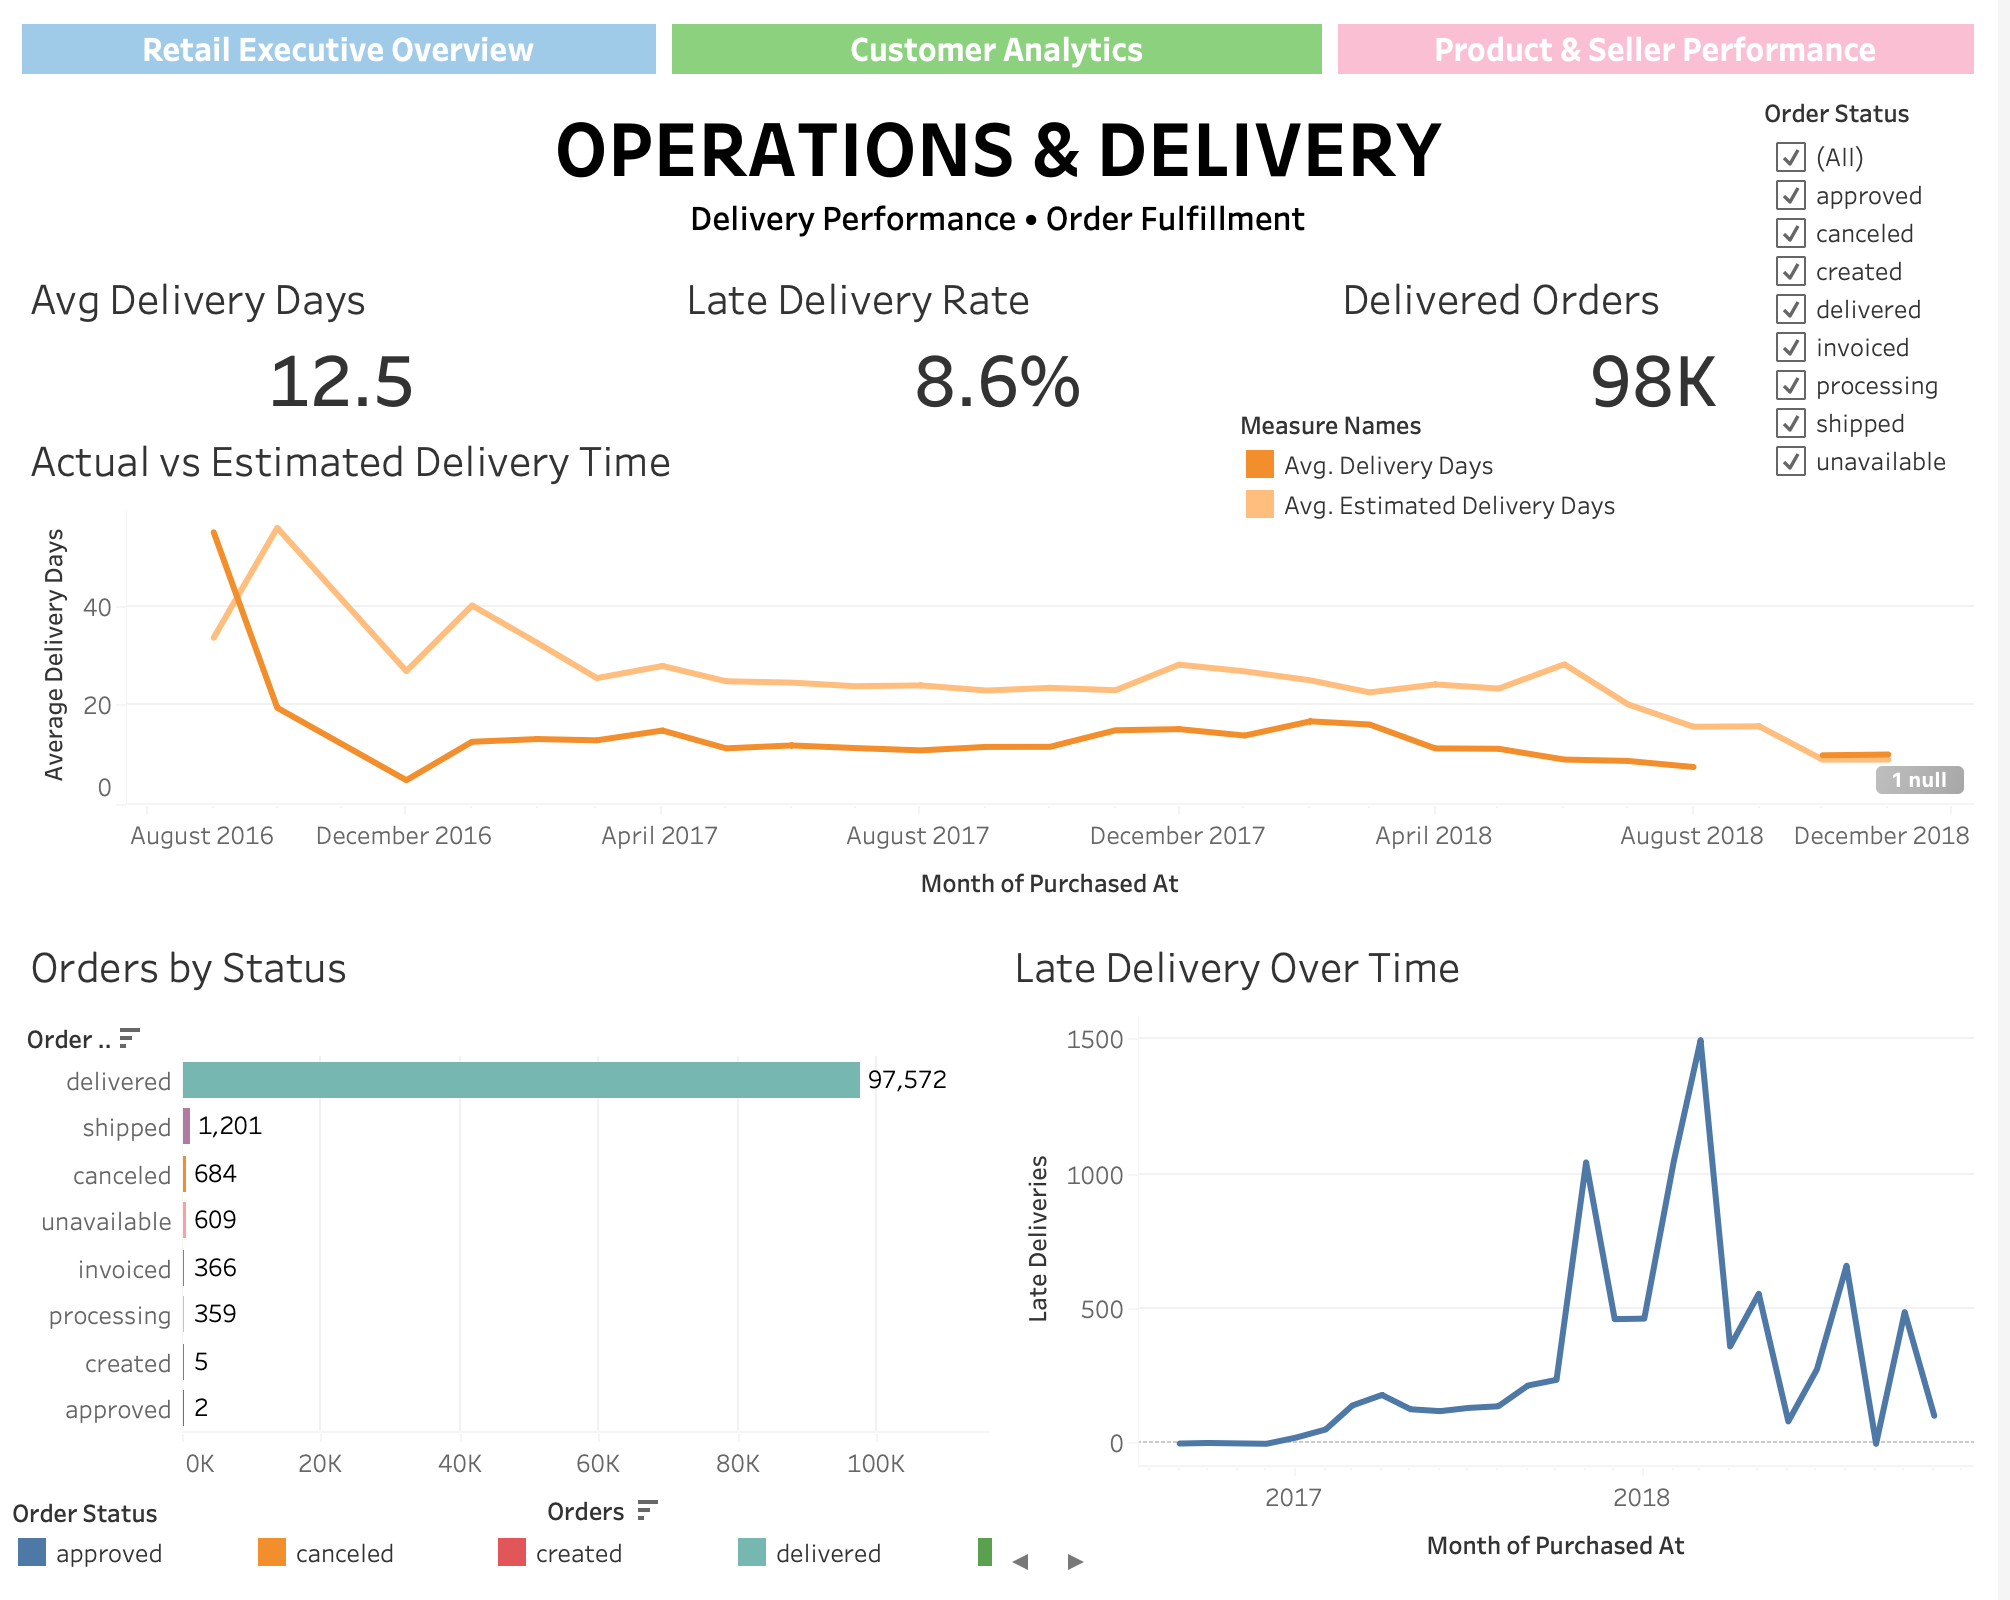

This screenshot's page, from the dashboard's own definition file:
{"tool":"tableau","page":{"name":"Operations & Delivery.","canvas":[1000,800],"ordinal":1},"visuals":[{"type":"dashboard-object","box":[8,8,325,33]},{"type":"dashboard-object","box":[333,8,333,33]},{"type":"dashboard-object","box":[666,8,326,33]},{"type":"text","box":[8,41,984,86]},{"type":"filter","title":"Orders by Status","param":"[federated.1kb3w71039vuuk11sxhkk0hveyxa].[none:order_status:nk]","box":[883,48,107,204]},{"type":"worksheet","title":"Avg Delivery Days","mark":"Automatic","box":[8,127,328,81]},{"type":"worksheet","title":"Late Delivery Rate","mark":"Automatic","box":[336,127,328,81]},{"type":"worksheet","title":"Delivered Orders","mark":"Automatic","box":[664,127,328,81]},{"type":"legend","title":"Actual vs Estimated Delivery Time","param":"[federated.1kb3w71039vuuk11sxhkk0hveyxa].[:Measure Names]","box":[621,204,193,58]},{"type":"worksheet","title":"Actual vs Estimated Delivery Time","mark":"Line","cols":["purchased_at"],"box":[8,207.7,984,252.9]},{"type":"worksheet","title":"Orders by Status","mark":"Bar","rows":["order_status"],"cols":["order_id"],"box":[8,460.6,492,314]},{"type":"worksheet","title":"Late Delivery Over Time","mark":"Line","rows":["Calculation_2406463133302788"],"cols":["purchased_at"],"box":[500,460.6,492,331.4]},{"type":"legend","title":"Orders by Status","param":"[federated.1kb3w71039vuuk11sxhkk0hveyxa].[none:order_status:nk]","box":[7,748,546,47]}]}

Visuals, with their boxes in screenshot pixels (x1, y1, x2, y2), scaled from the page's 1000x800 canvas onto the 2010x1600 screenshot:
dashboard-object: <bbox>16, 16, 669, 82</bbox>
dashboard-object: <bbox>669, 16, 1339, 82</bbox>
dashboard-object: <bbox>1339, 16, 1994, 82</bbox>
text: <bbox>16, 82, 1994, 254</bbox>
"Orders by Status" filter: <bbox>1775, 96, 1990, 504</bbox>
"Avg Delivery Days" worksheet: <bbox>16, 254, 675, 416</bbox>
"Late Delivery Rate" worksheet: <bbox>675, 254, 1335, 416</bbox>
"Delivered Orders" worksheet: <bbox>1335, 254, 1994, 416</bbox>
"Actual vs Estimated Delivery Time" legend: <bbox>1248, 408, 1636, 524</bbox>
"Actual vs Estimated Delivery Time" worksheet (Line marks): <bbox>16, 415, 1994, 921</bbox>
"Orders by Status" worksheet (Bar marks): <bbox>16, 921, 1005, 1549</bbox>
"Late Delivery Over Time" worksheet (Line marks): <bbox>1005, 921, 1994, 1584</bbox>
"Orders by Status" legend: <bbox>14, 1496, 1112, 1590</bbox>
